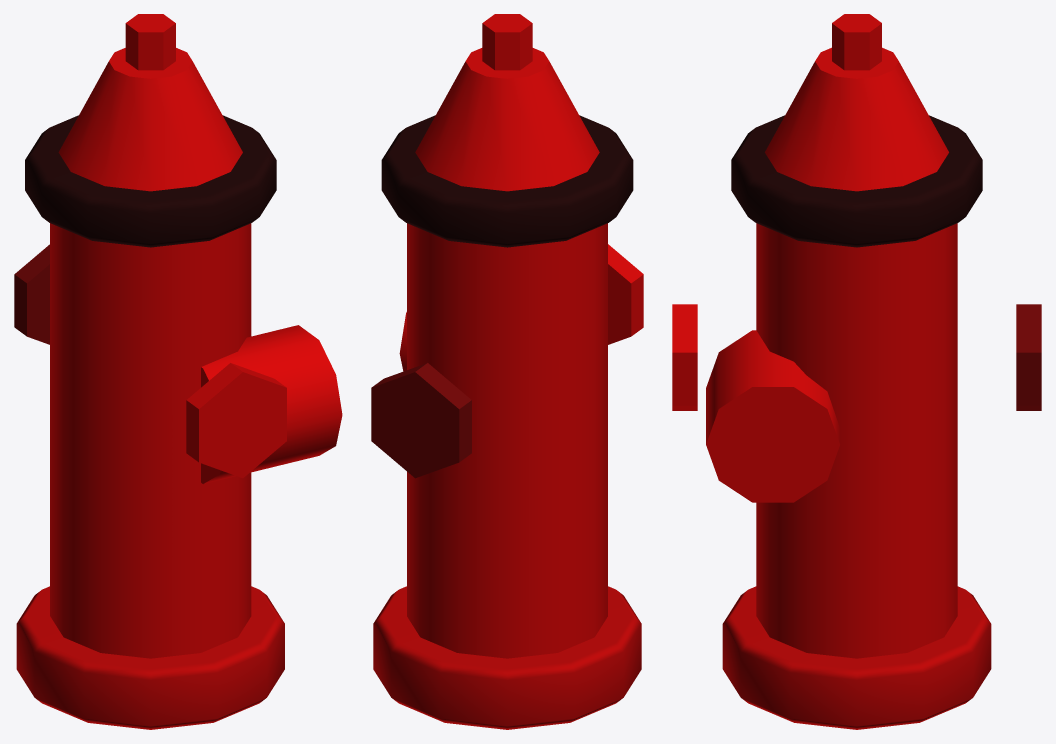
File: hydrant.glb
3 renders of one model, left to right at view 1: azimuth 30°, elevation 25°; view 2: azimuth 150°, elevation 25°; view 3: azimuth 270°, elevation 25°, orthographic.
Visible parts, largest first — view 1: hydrant; view 2: hydrant; view 3: hydrant.
Boxes of the visible parts, x1=… form: hydrant: x1=14, y1=14, x2=342, y2=729; hydrant: x1=371, y1=14, x2=643, y2=729; hydrant: x1=672, y1=14, x2=1041, y2=729.
Bounding box in the file's own units: 0.32 × 0.86 × 0.44.
